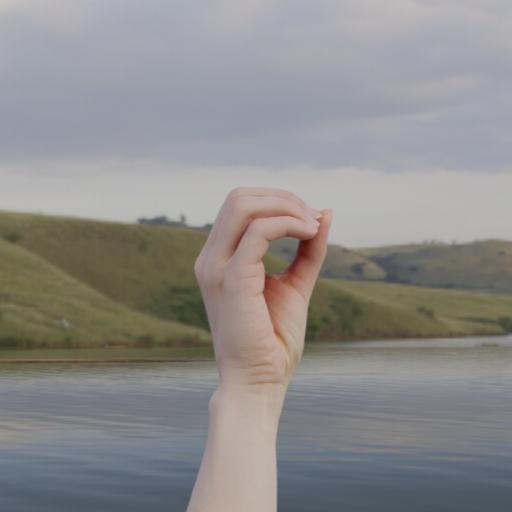O: (171, 162, 343, 498)
